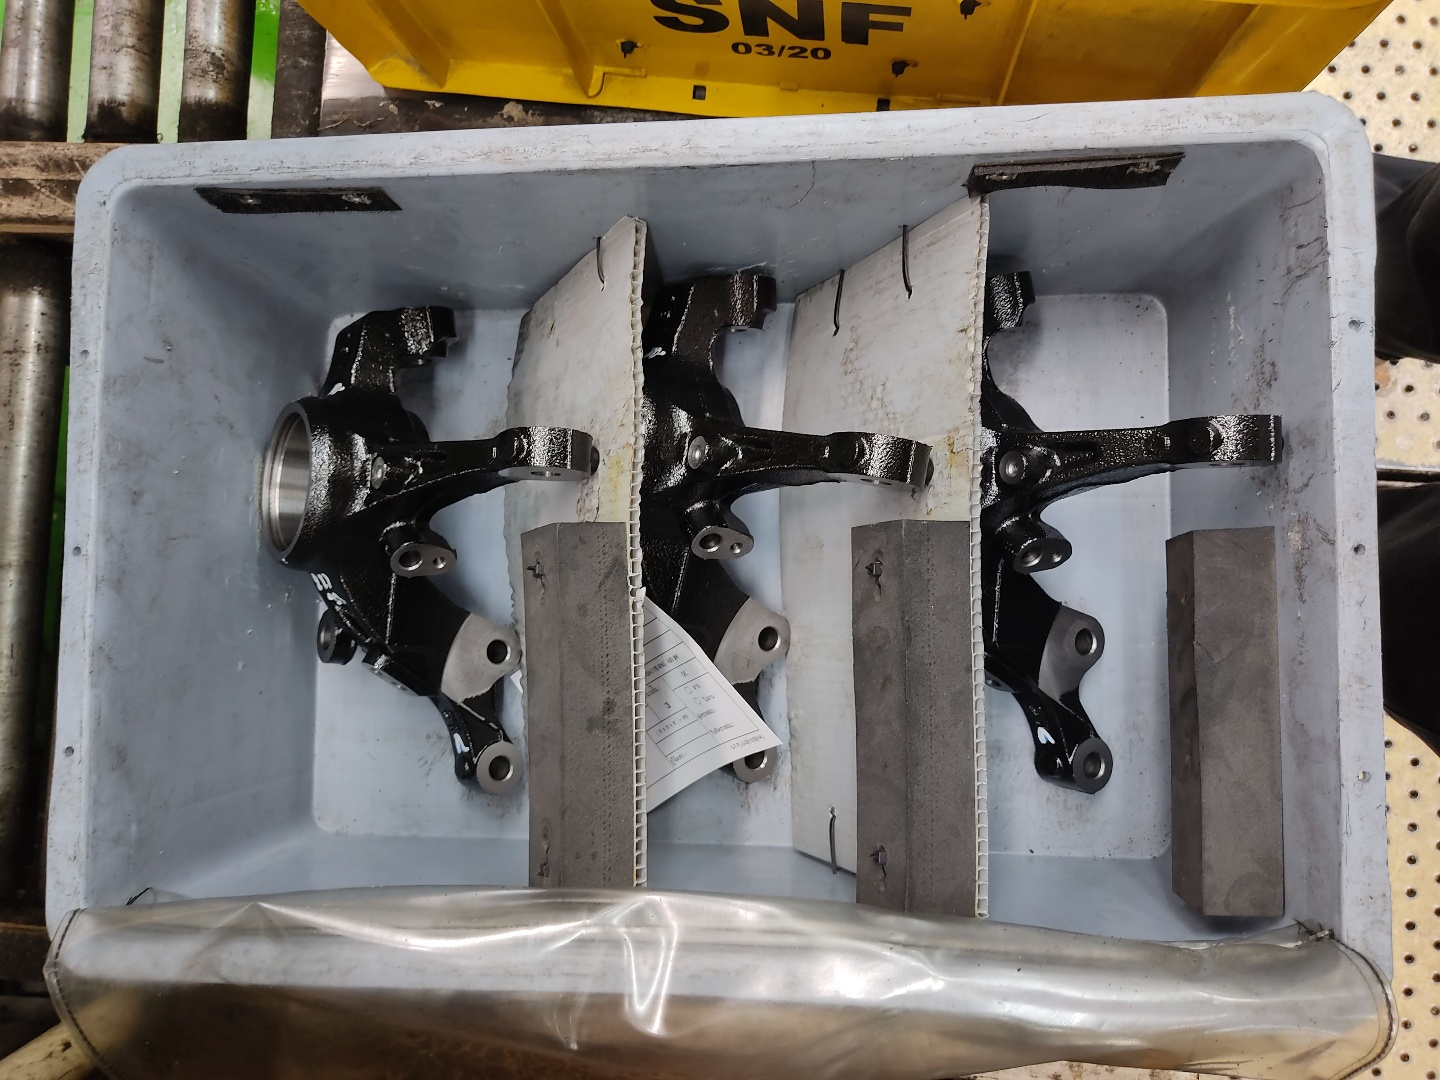abs-rh: (951, 263, 1304, 802), (249, 293, 607, 805), (632, 260, 939, 786)
